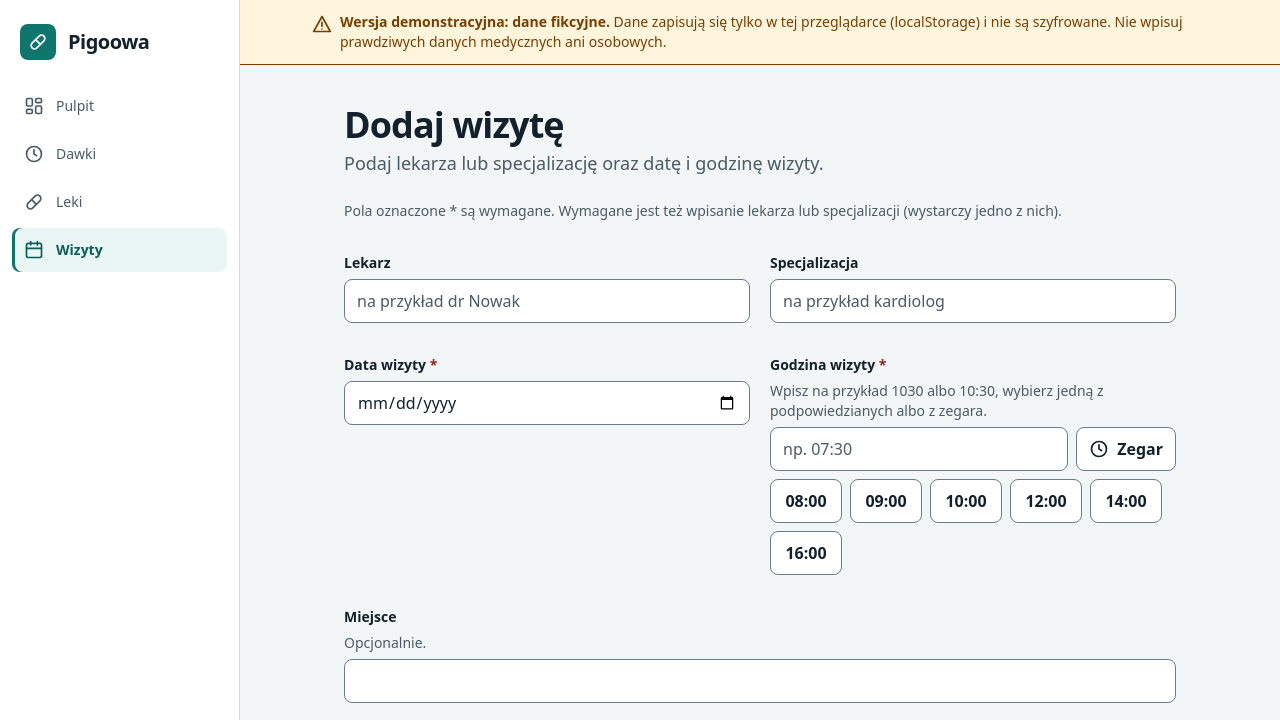
it: add appointment: the form › warns about a time that happens twice when the clocks go back, and saves the earlier one
The width and height of the screenshot is (1280, 720).
In the field labelled "Lekarz": (547, 301) x1=344 y1=279 x2=750 y2=323, type "dr Nowak"
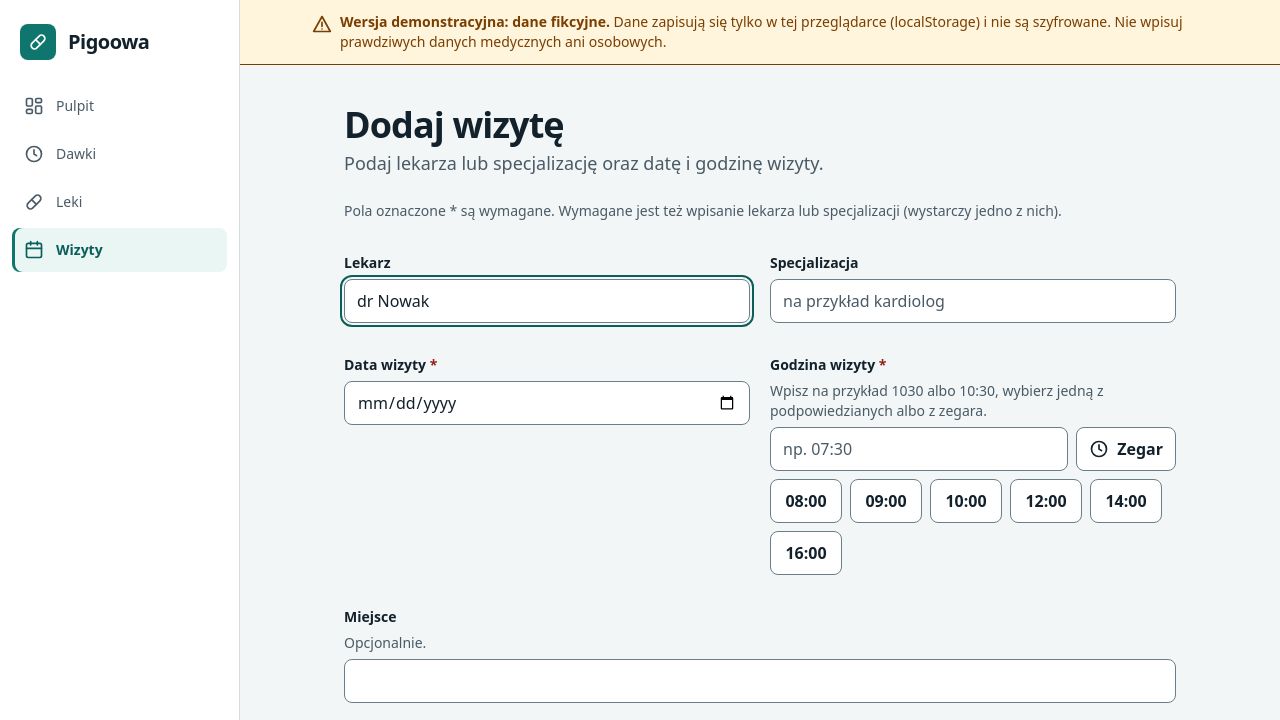
In the date field labelled "Data wizyty *": (547, 403) x1=344 y1=381 x2=750 y2=425, type "2026-10-25"
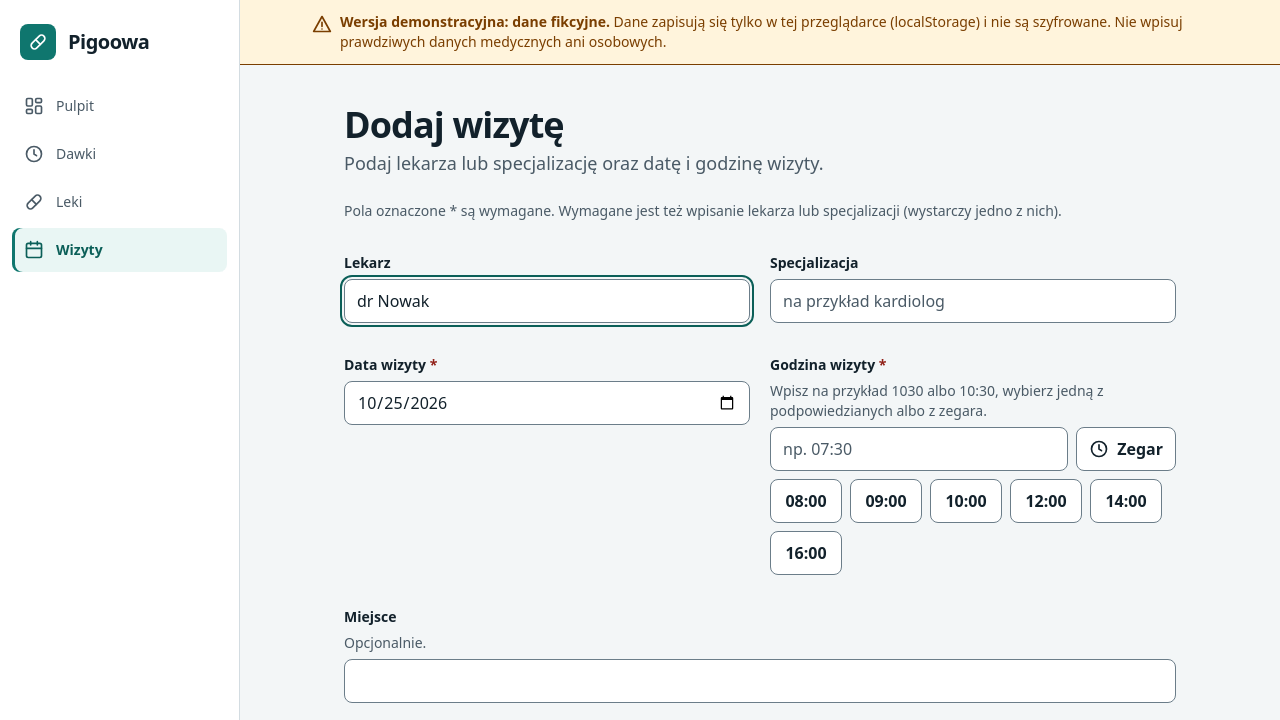
In the field labelled "Godzina wizyty *": (919, 449) x1=770 y1=427 x2=1068 y2=471, type "02:30"
(page scrolled)
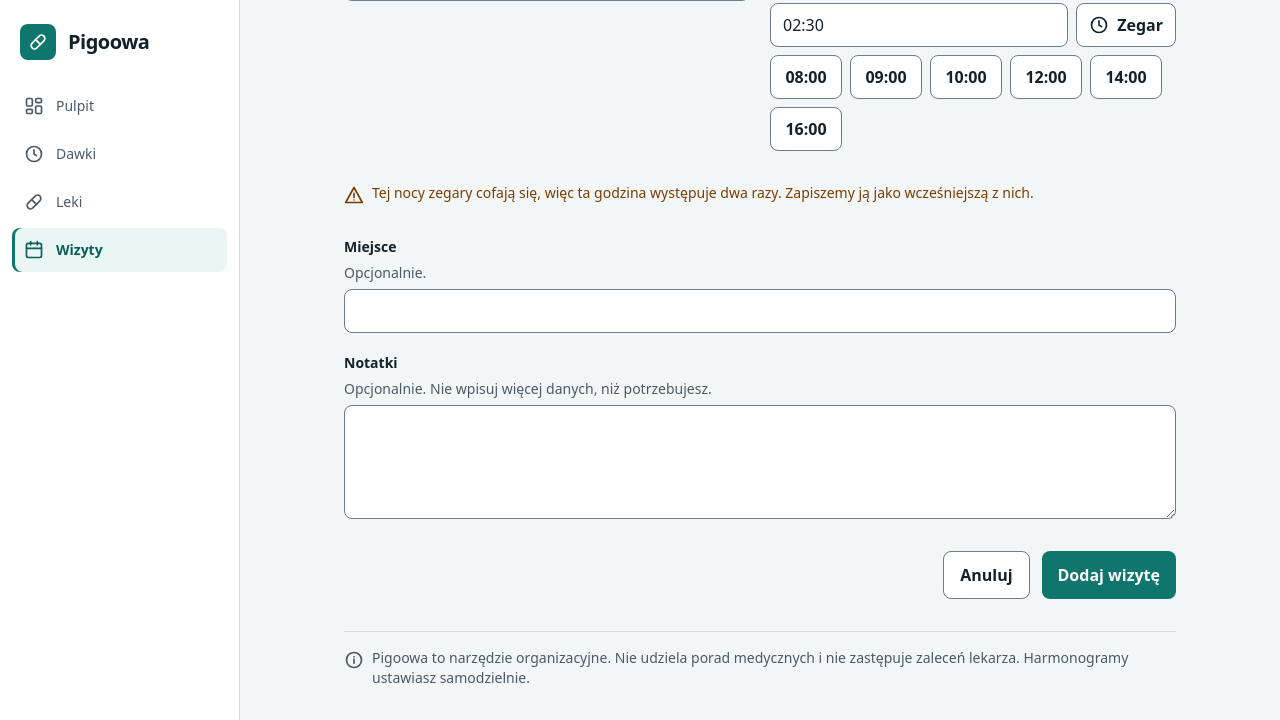
Now the text "ta godzina występuje dwa razy" is shown, box x1=372 y1=183 x2=1034 y2=202
Click the button "Dodaj wizytę": click(1109, 575) x1=1042 y1=551 x2=1176 y2=599
(page scrolled)
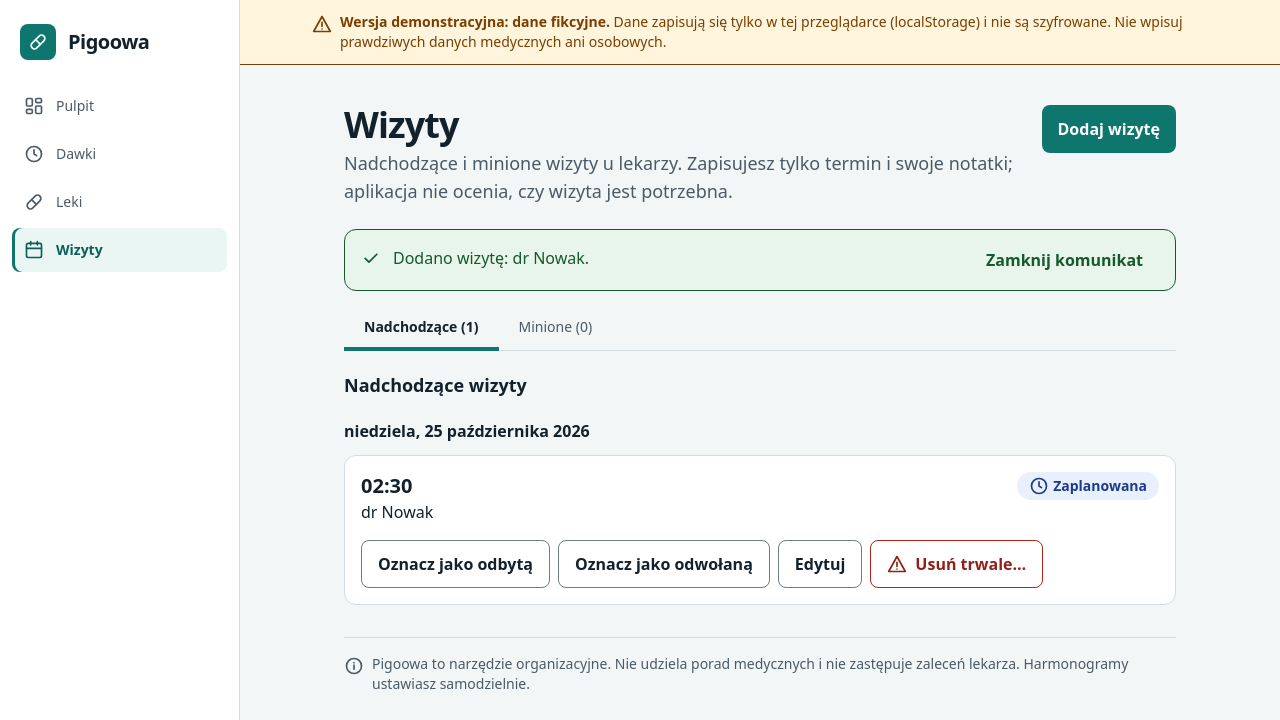
Now the heading "Wizyty" is shown, box x1=344 y1=100 x2=459 y2=149
